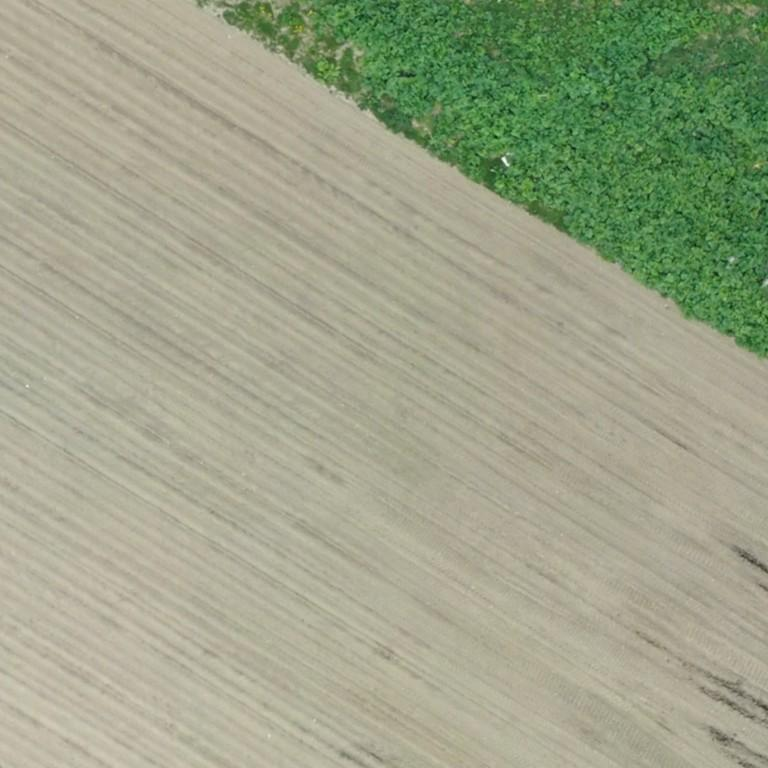hogweed: (296, 0, 767, 351)
